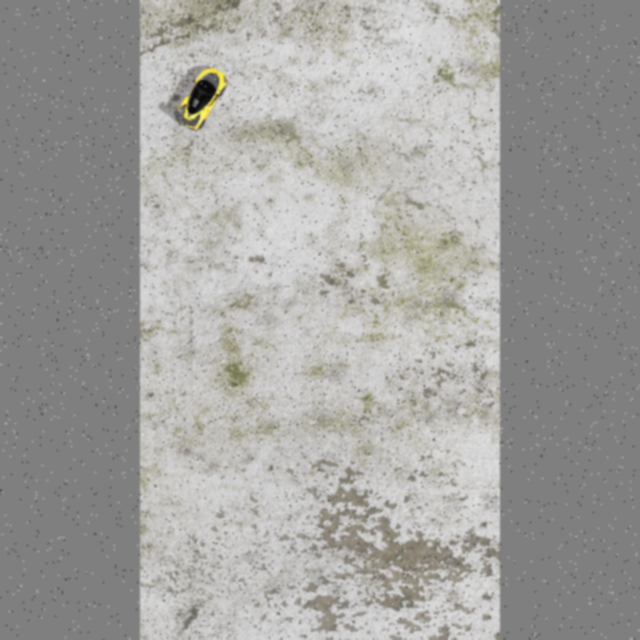car: (168, 57, 232, 136)
